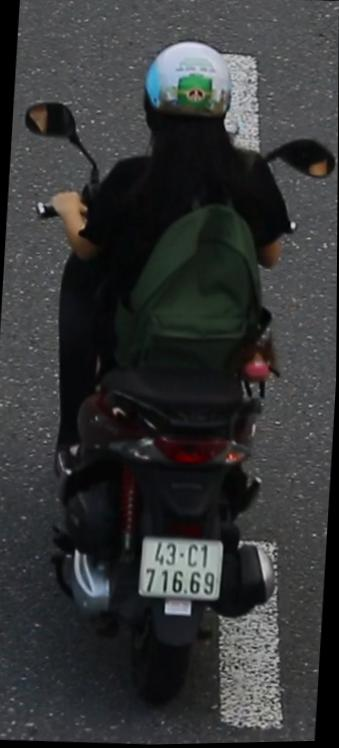LP: (134, 527, 227, 609)
helmet: (136, 33, 243, 176)
